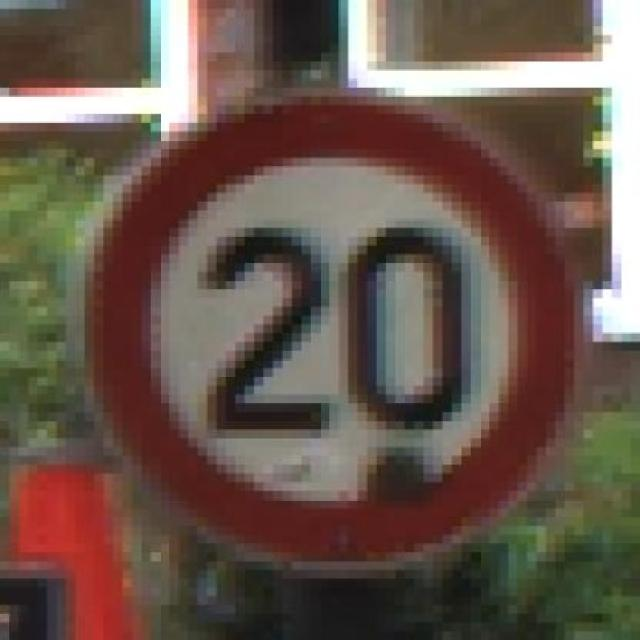forb_speed_over_20: (95, 99, 582, 562)
